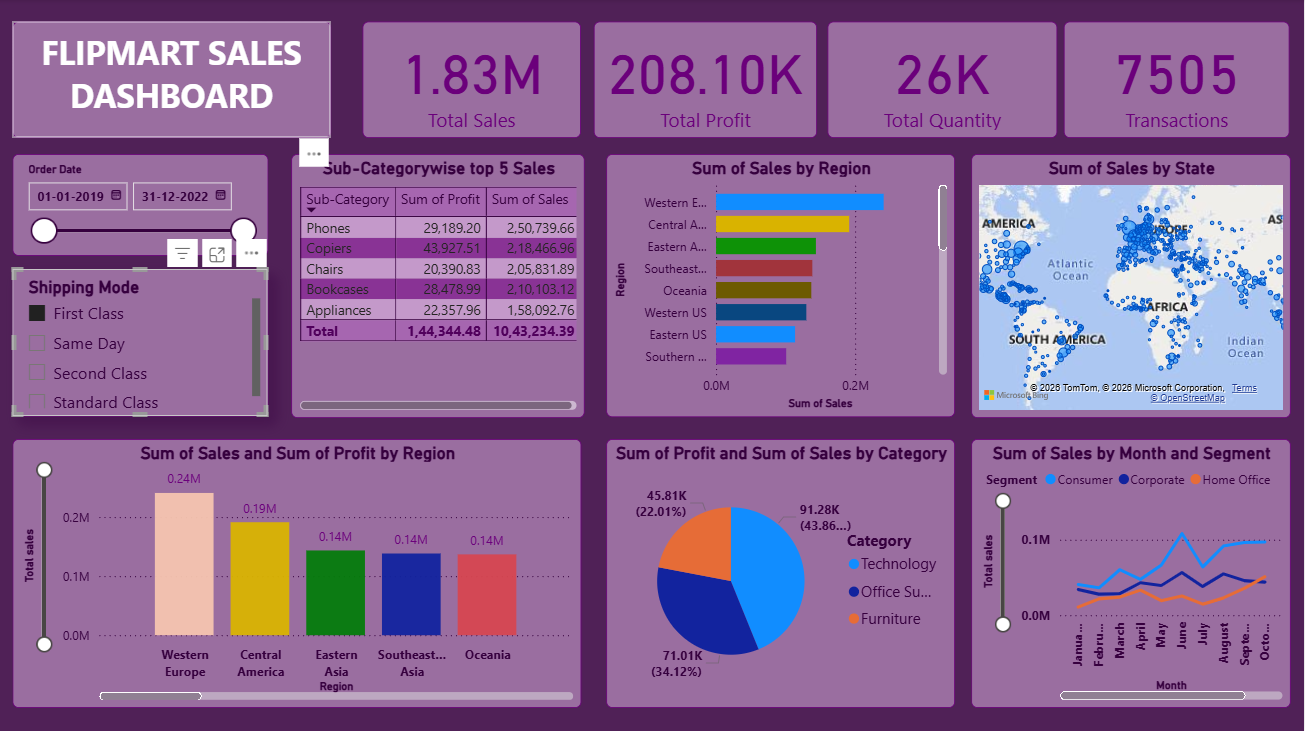

What the dashboard file says about the page in this screenshot:
{"tool":"powerbi","page":{"name":"Page 1","canvas":[1280,720],"ordinal":0},"visuals":[{"type":"card","fields":{"Values":["Sum(Sales.Sales)"]},"box":[355.9,21.7,214.7,114.6],"z":0},{"type":"card","fields":{"Values":["Sum(Sales.Profit)"]},"box":[582.7,21.7,219.6,114.6],"z":1000},{"type":"card","fields":{"Values":["Sum(Sales.Quantity)"]},"box":[811.9,21.7,225.6,114.6],"z":2000},{"type":"card","fields":{"Values":["CountNonNull(Sales.Order ID)"]},"box":[1044.8,21.7,222,114.6],"z":3000},{"type":"clusteredColumnChart","fields":{"Category":["Sales.Region"],"Y":["Sum(Sales.Sales)"]},"box":[12.1,431.9,558.6,264.2],"z":4000},{"type":"barChart","fields":{"Category":["Sales.Region"],"Y":["Sum(Sales.Sales)"]},"box":[594.8,152,342.6,258.2],"z":5000},{"type":"pieChart","fields":{"Category":["Sales.Category"],"Y":["Sum(Sales.Profit)"]},"box":[594.8,431.9,342.6,264.2],"z":6000},{"type":"lineChart","fields":{"Category":["Sales.Order Date.Variation.Date Hierarchy.Month"],"Y":["Sum(Sales.Sales)"],"Series":["Sales.Segment"]},"box":[953.1,431.9,313.7,264.2],"z":7000},{"type":"map","fields":{"Category":["Sales.State"],"Size":["Sum(Sales.Sales)"]},"box":[953.1,152,313.7,259.4],"z":8000},{"type":"tableEx","title":"Sub-Categorywise top 5 Sales","fields":{"Values":["Sales.Sub-Category","Sum(Sales.Profit)","Sum(Sales.Sales)"]},"box":[285.9,152,288.3,259.4],"z":9000},{"type":"slicer","fields":{"Values":["Sales.Shipping Mode"]},"box":[12.1,265.4,250.9,144.8],"z":10000},{"type":"slicer","fields":{"Values":["Sales.Order Date"]},"box":[12.1,152,250.9,100.1],"z":11000},{"type":"textbox","box":[12.1,21.7,312.5,114.6],"z":12000}]}

Visuals, with their boxes in screenshot pixels (x1, y1, x2, y2), scaled from the page's 1280x720 canvas onto the 1305x731 screenshot:
card - Sum(Sales.Sales): crop(363, 22, 582, 138)
card - Sum(Sales.Profit): crop(594, 22, 818, 138)
card - Sum(Sales.Quantity): crop(828, 22, 1058, 138)
card - CountNonNull(Sales.Order ID): crop(1065, 22, 1292, 138)
clusteredColumnChart - Sales.Region x Sum(Sales.Sales): crop(12, 438, 582, 707)
barChart - Sales.Region x Sum(Sales.Sales): crop(606, 154, 956, 416)
pieChart - Sales.Category x Sum(Sales.Profit): crop(606, 438, 956, 707)
lineChart - Sales.Order Date.Variation.Date Hierarchy.Month x Sum(Sales.Sales): crop(972, 438, 1292, 707)
map - Sales.State x Sum(Sales.Sales): crop(972, 154, 1292, 418)
"Sub-Categorywise top 5 Sales" tableEx: crop(291, 154, 585, 418)
slicer - Sales.Shipping Mode: crop(12, 269, 268, 416)
slicer - Sales.Order Date: crop(12, 154, 268, 256)
textbox: crop(12, 22, 331, 138)
